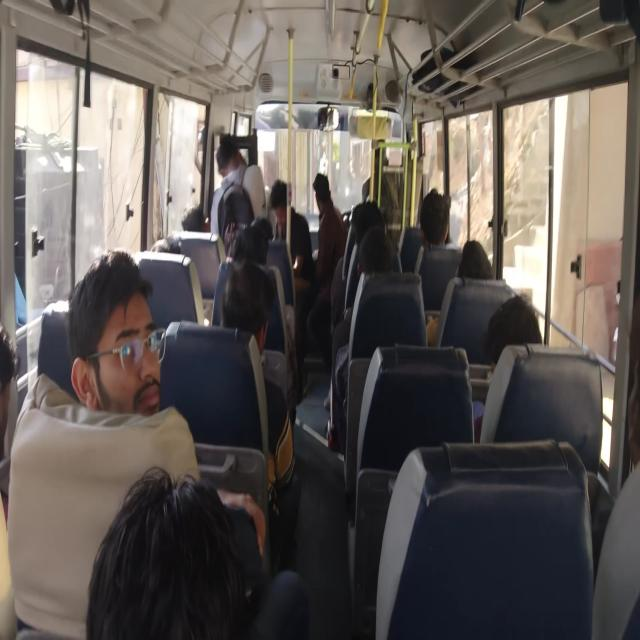person: (104, 483, 210, 640), (73, 259, 167, 406), (479, 283, 537, 358), (220, 254, 268, 334), (459, 228, 509, 302), (365, 220, 404, 299), (274, 169, 310, 238), (422, 182, 460, 240), (0, 320, 12, 483), (224, 227, 267, 268), (309, 167, 343, 213), (212, 130, 244, 173), (361, 203, 389, 244), (187, 204, 216, 235), (145, 240, 182, 259), (244, 218, 272, 242)
